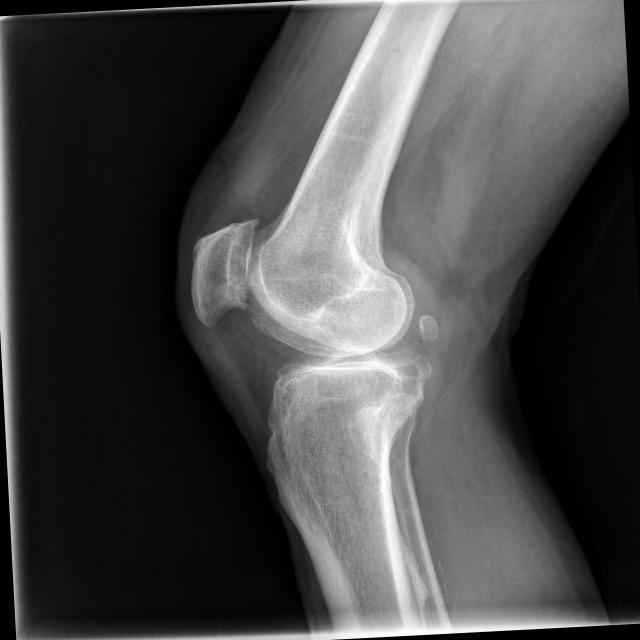Knee: (187, 192, 438, 462)
